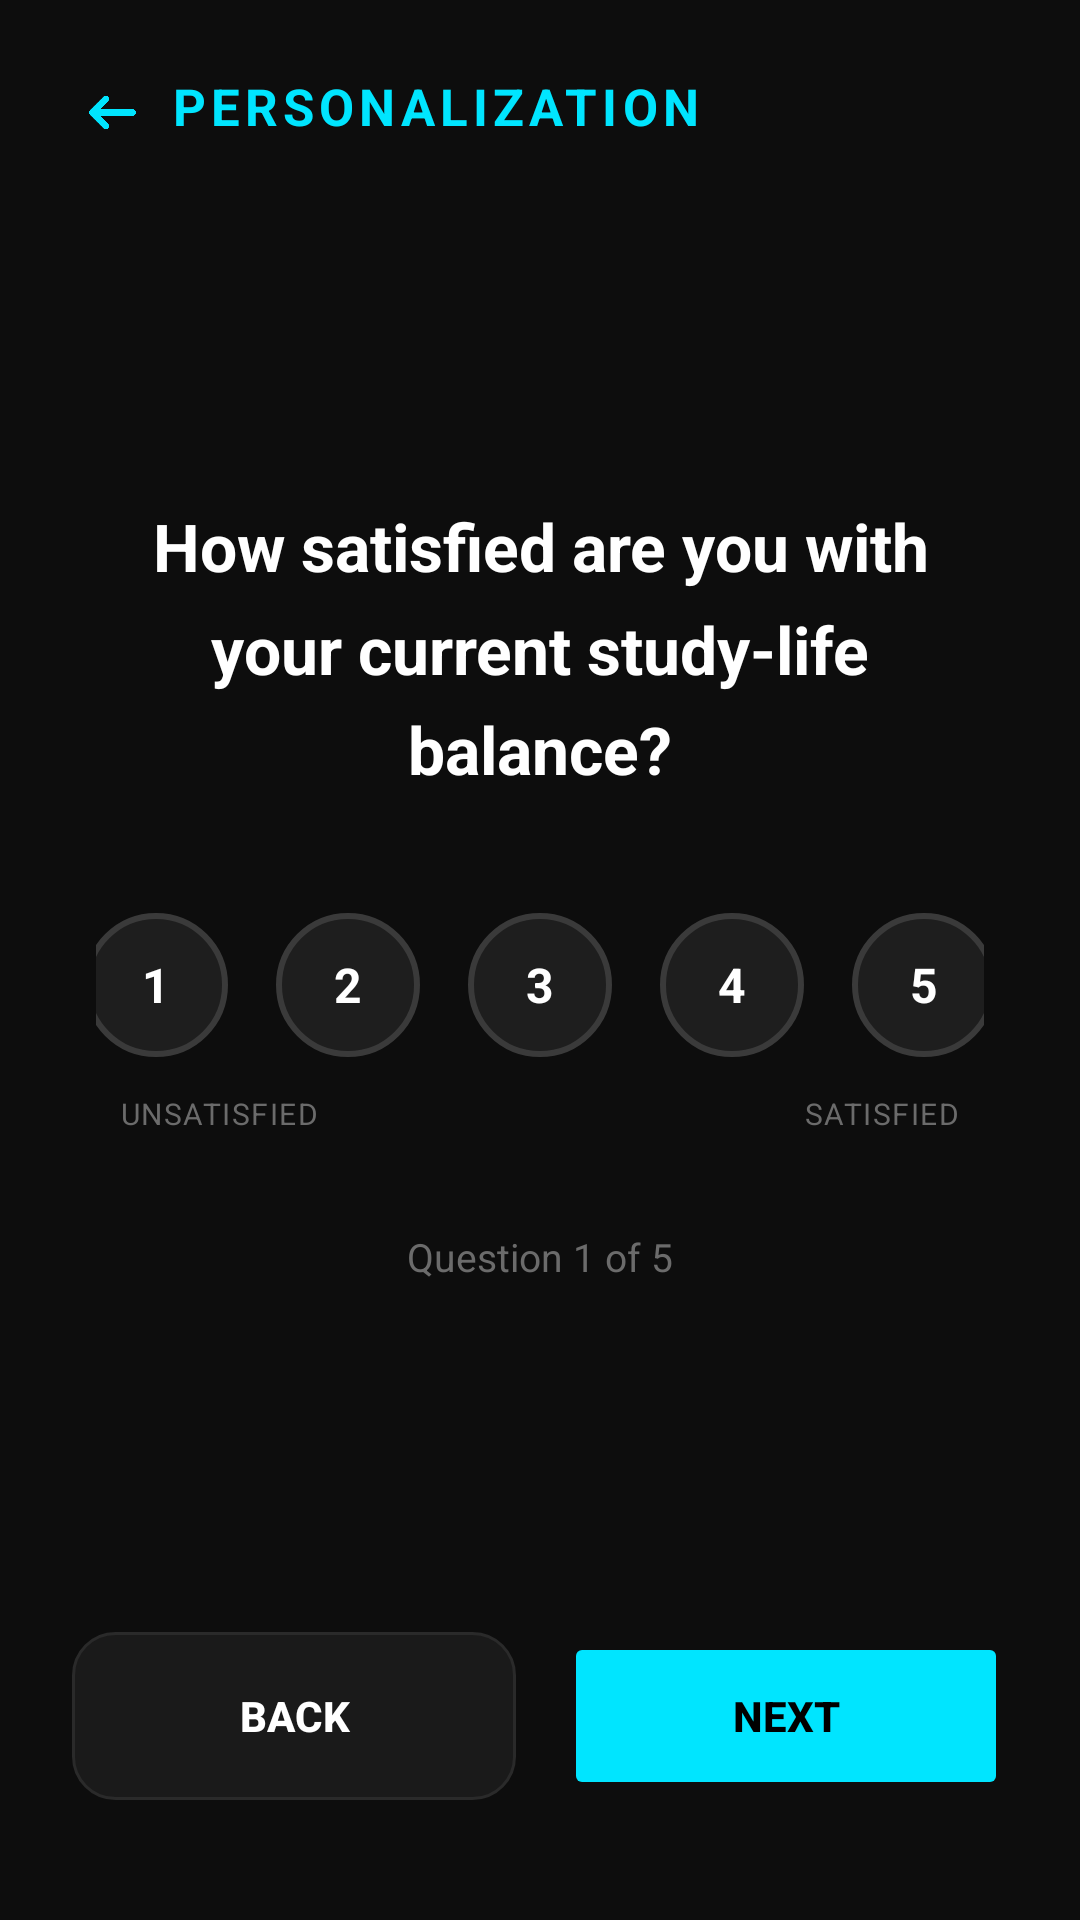

Icon bounding boxes for this 1080×1920 phone screenshot, format bbox=[x1, y1, x2, y2]:
arrow back: bbox=[89, 96, 136, 129]
